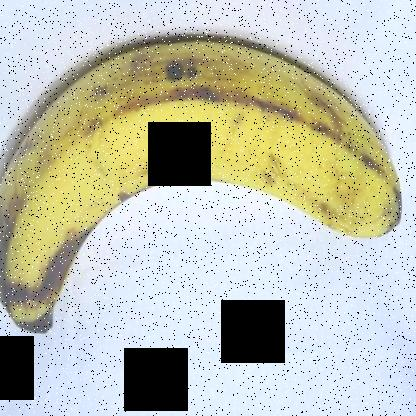ripe: (1, 21, 410, 342)
